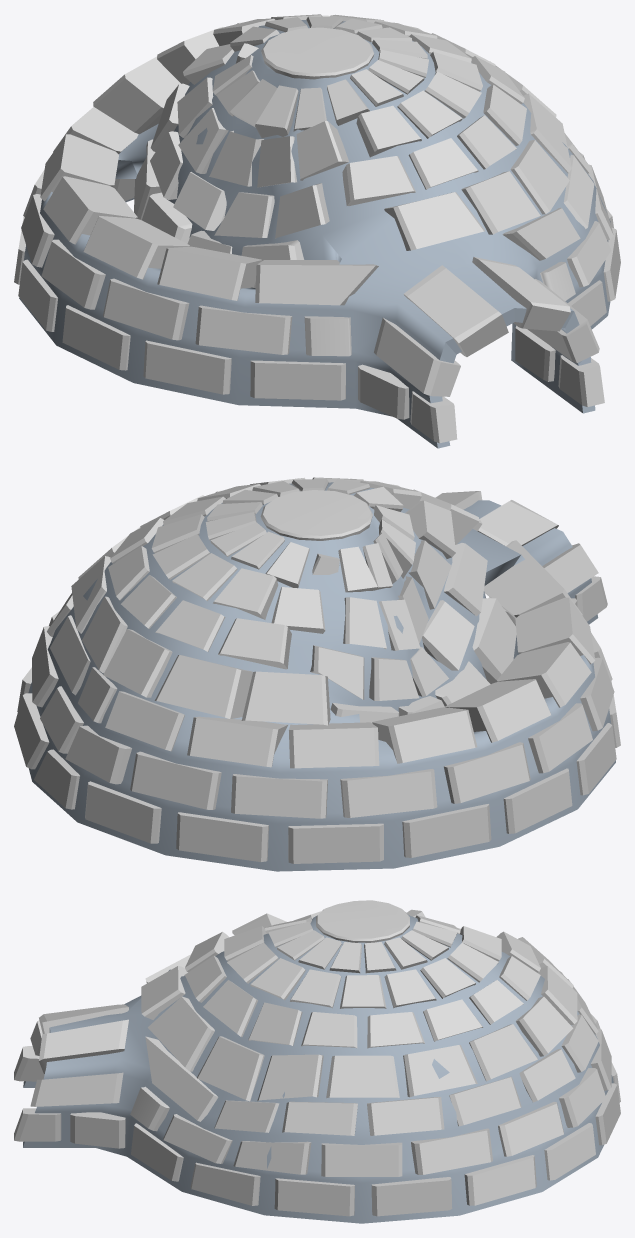
File: VeryMeltyIgloo.fbx
3 views of the same model, one above another, from view 1: azimuth 30°, elevation 25°; view 2: azimuth 150°, elevation 25°; view 3: azimuth 270°, elevation 25° (orthographic). The views are drawn at different scales.
Visible parts, largest first — view 1: veryMeltyBricks, veryMeltySupport; view 2: veryMeltyBricks, veryMeltySupport; view 3: veryMeltyBricks, veryMeltySupport.
Boxes of the visible parts, x1,y1,x2,y2 form: veryMeltyBricks: (14,14,620,443); veryMeltySupport: (19,20,610,448); veryMeltyBricks: (14,477,620,863); veryMeltySupport: (28,482,615,871); veryMeltyBricks: (14,900,620,1216); veryMeltySupport: (23,914,613,1223).
Size of the model in its own units: 619 by 264 by 729.
